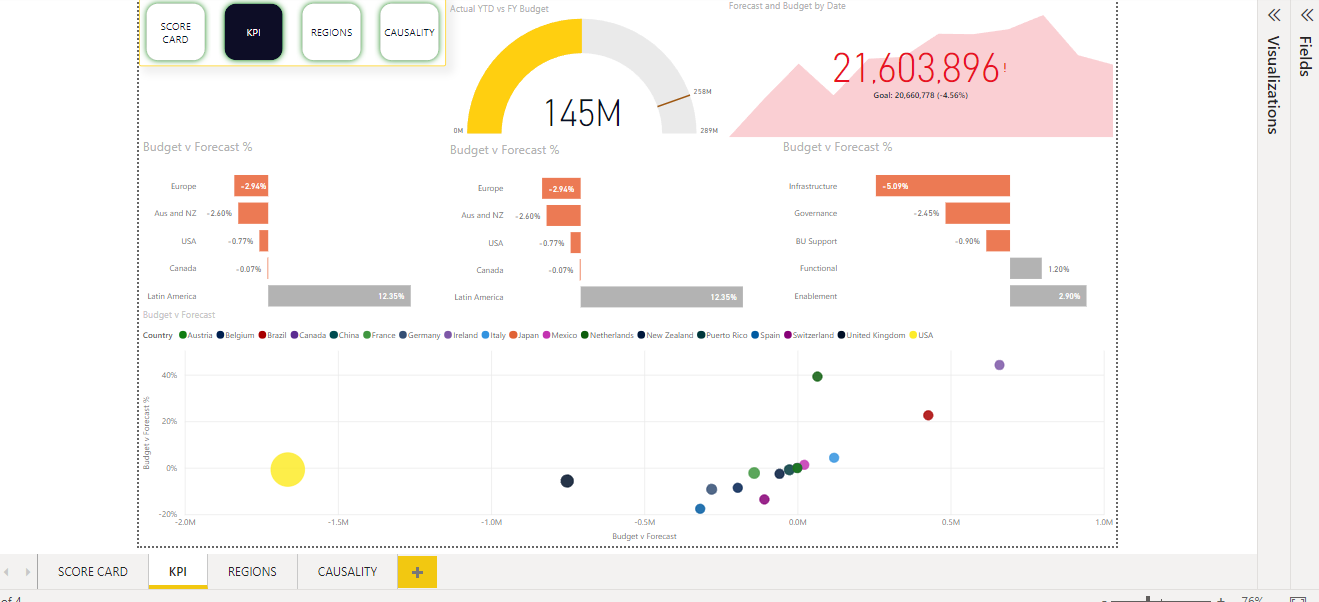

What the dashboard file says about the page in this screenshot:
{"tool":"powerbi","page":{"name":"KPI","canvas":[1280,720],"ordinal":1},"visuals":[{"type":"clusteredBarChart","title":"Budget v Forecast %","fields":{"Category":["Regions.Region"],"Y":["Measure.Budget v Forecast %"]},"box":[0,186.3,401.6,241],"z":0},{"type":"clusteredBarChart","title":"Budget v Forecast %","fields":{"Category":["Regions.Region"],"Y":["Measure.Budget v Forecast %"]},"box":[401.6,189.7,435.8,237.5],"z":1000},{"type":"clusteredBarChart","title":"Budget v Forecast %","fields":{"Y":["Measure.Budget v Forecast %"],"Category":["Departments.IT Area"]},"box":[837.4,186.3,442.6,241],"z":2000},{"type":"gauge","title":"Actual YTD vs FY Budget","fields":{"Y":["Sum(Actuals.Actual)"],"TargetValue":["Sum(Budget.Budget)"]},"box":[401.8,7.2,365.8,182.9],"z":3000},{"type":"kpi","fields":{"TrendLine":["Calendar.Date"],"Indicator":["Sum(Forecast.Forecast)"],"Goal":["Sum(Budget.Budget)"]},"box":[767.3,3.4,512.7,186.3],"z":4000},{"type":"scatterChart","title":"Budget v Forecast","fields":{"Series":["Regions.Country"],"X":["Measure.Budget v Forecast"],"Y":["Measure.Budget v Forecast %"],"Size":["Sum(Forecast.Forecast)"]},"box":[0,408.4,1280,311],"z":6000},{"type":"pageNavigator","box":[0,0,401.6,92.3],"z":8000}]}

Visuals, with their boxes on the page's 1280x720 design canvas (x1, y1, x2, y2). These are canvas units, not pixel positions in the 1319x602 screenshot, which may show the page scaled, cropped or inside an application window:
"Budget v Forecast %" clusteredBarChart: box(0, 186, 402, 427)
"Budget v Forecast %" clusteredBarChart: box(402, 190, 837, 427)
"Budget v Forecast %" clusteredBarChart: box(837, 186, 1280, 427)
"Actual YTD vs FY Budget" gauge: box(402, 7, 768, 190)
kpi - Calendar.Date x Sum(Forecast.Forecast): box(767, 3, 1280, 190)
"Budget v Forecast" scatterChart: box(0, 408, 1280, 719)
pageNavigator: box(0, 0, 402, 92)
